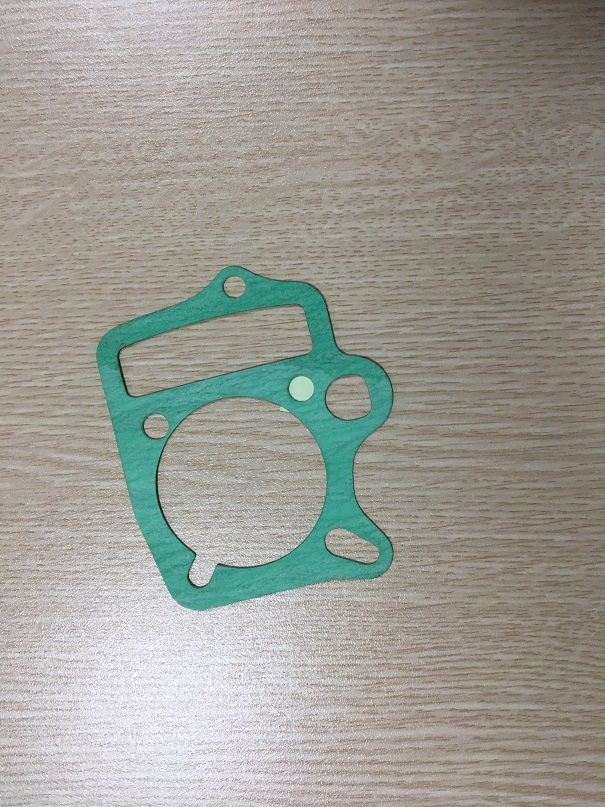type4: (84, 260, 416, 632)
